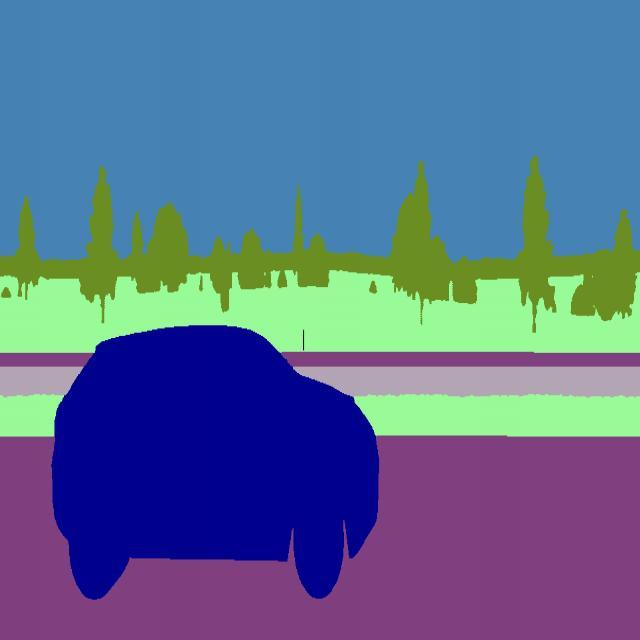unsafe: (53, 322, 380, 602)
